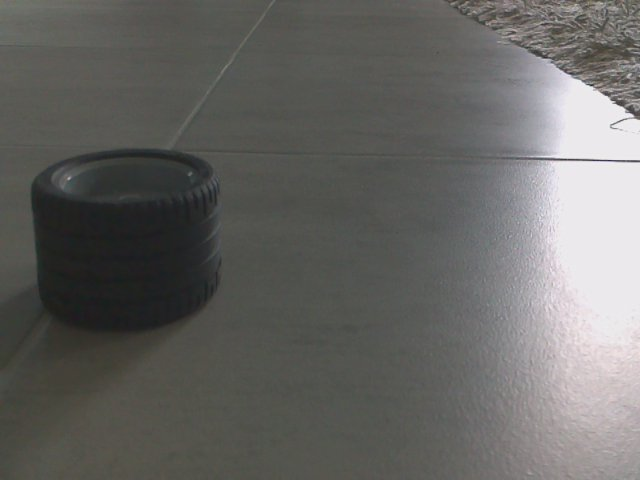Rad: (20, 139, 234, 337)
